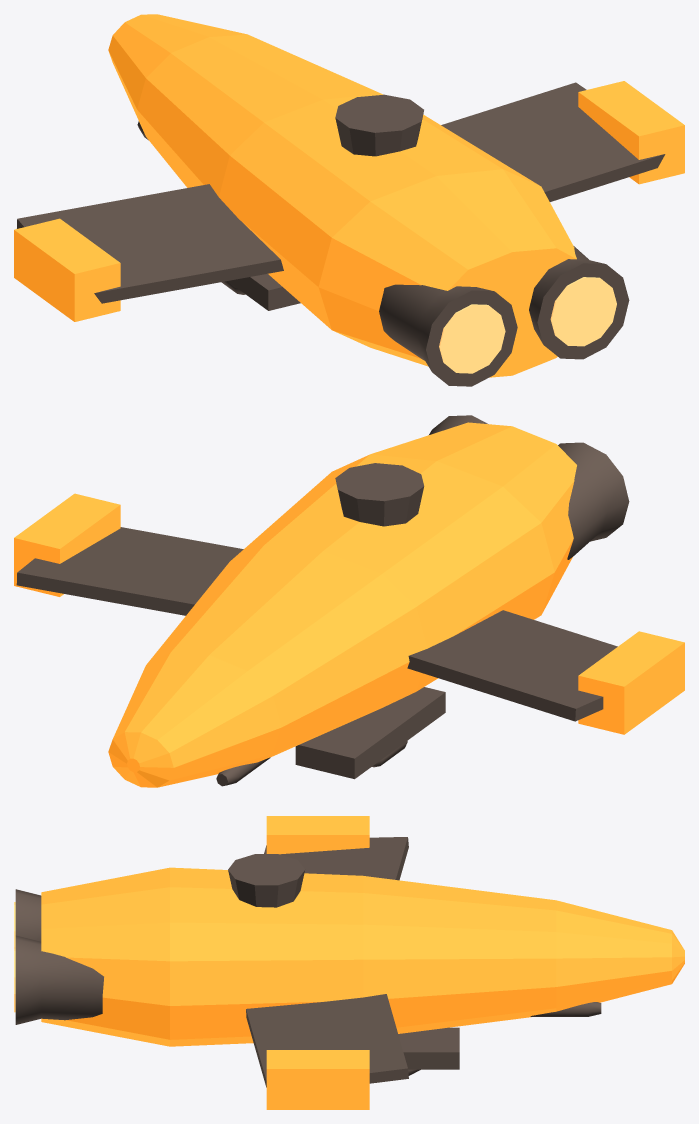
File: fighter_bomber.glb
The picture shows the model from 3 angles, top to bottom: view 1: azimuth 30°, elevation 25°; view 2: azimuth 150°, elevation 25°; view 3: azimuth 270°, elevation 25°; orthographic projection. The views are drawn at different scales.
Visible parts, largest first — view 1: Merged_BomberBody, Merged_BomberDark, Merged_BomberEngine, TurretNub; view 2: Merged_BomberBody, Merged_BomberDark, TurretNub; view 3: Merged_BomberBody, Merged_BomberDark, TurretNub.
Part boxes in pixels (x1,y1,x2,y2): Merged_BomberBody: [14, 14, 684, 377]; Merged_BomberDark: [17, 82, 665, 386]; Merged_BomberEngine: [439, 277, 616, 373]; TurretNub: [335, 94, 423, 156]; Merged_BomberBody: [14, 422, 684, 787]; Merged_BomberDark: [16, 415, 629, 786]; TurretNub: [335, 463, 424, 526]; Merged_BomberBody: [41, 816, 684, 1109]; Merged_BomberDark: [15, 837, 601, 1087]; TurretNub: [228, 854, 304, 907].
Bounding box in the file's own units: 9.3 × 2.99 × 10.43.
